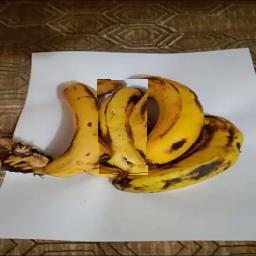Banana Semifresh: (127, 75, 203, 166), (49, 76, 112, 181), (98, 81, 148, 176)
